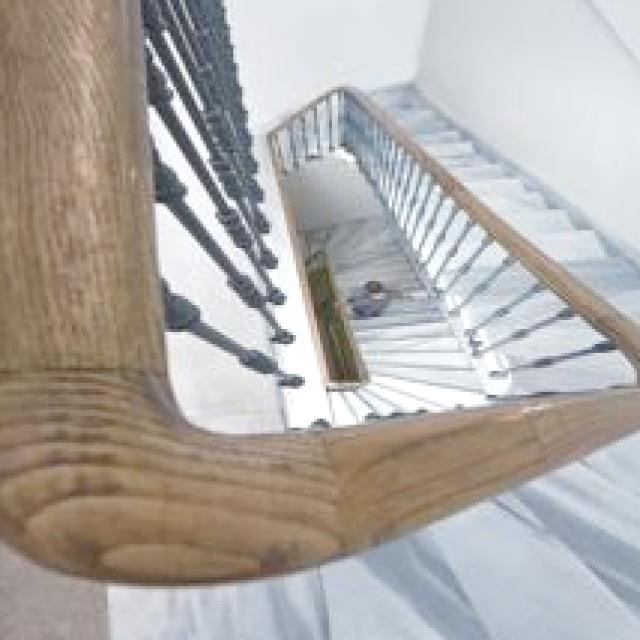downstair: (416, 321, 640, 608)
